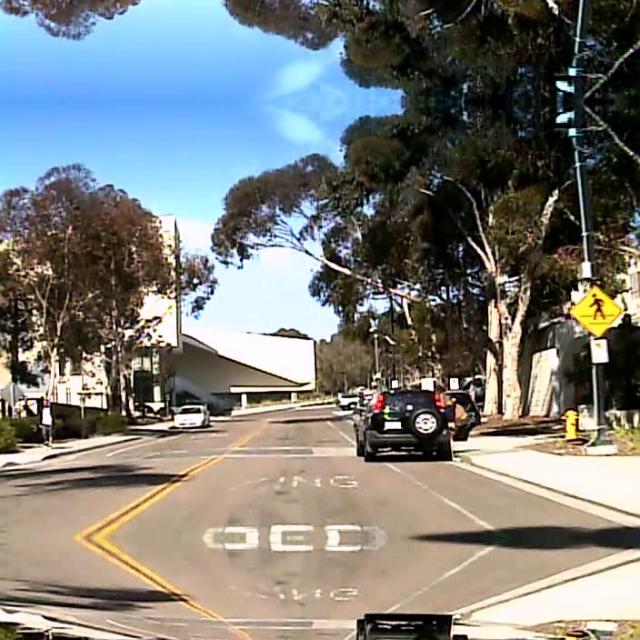pedestrianCrossing: (570, 284, 622, 336)
